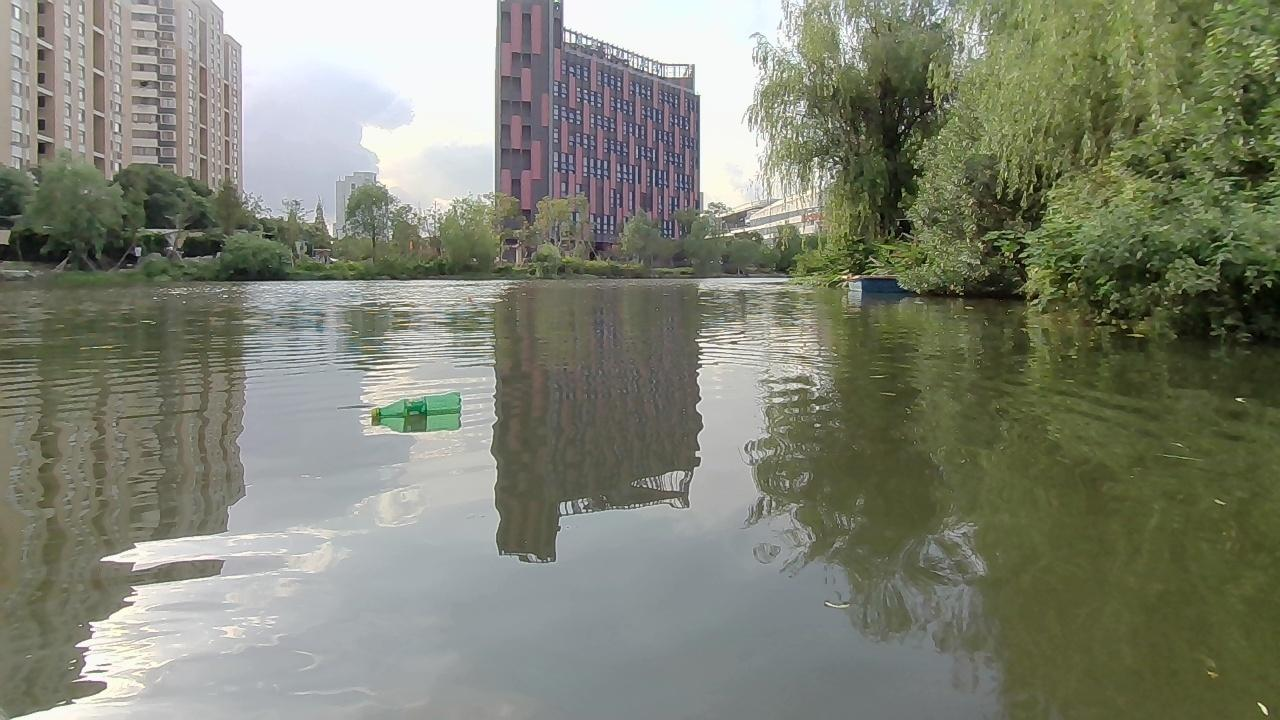bottle: (363, 392, 464, 425)
